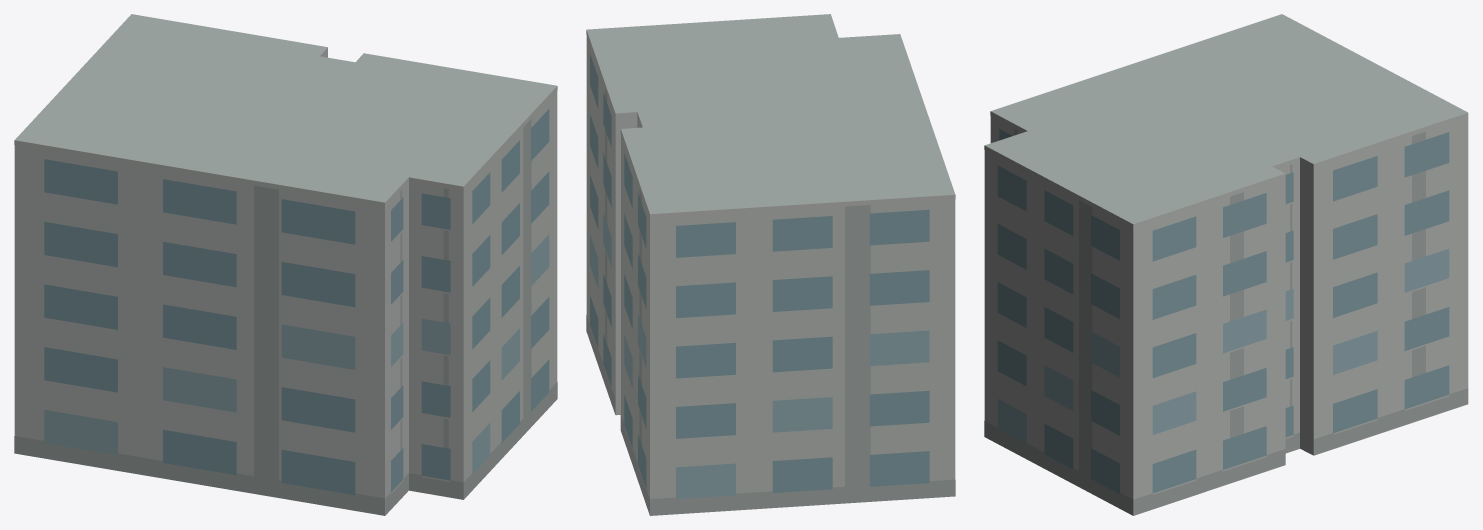
The model's file is survey-upis-32777938.glb.
The picture shows the model from 3 angles, left to right: view 1: azimuth 30°, elevation 25°; view 2: azimuth 150°, elevation 25°; view 3: azimuth 270°, elevation 25°; orthographic projection. The views are drawn at different scales.
Visible parts, largest first — view 1: survey-upis-32777938.tmp; view 2: survey-upis-32777938.tmp; view 3: survey-upis-32777938.tmp.
Boxes of the visible parts, x1,y1,x2,y2 form: survey-upis-32777938.tmp: (14, 14, 557, 515); survey-upis-32777938.tmp: (586, 14, 955, 515); survey-upis-32777938.tmp: (984, 14, 1468, 515).
Bounding box in the file's own units: 23.99 × 15.5 × 23.32.
